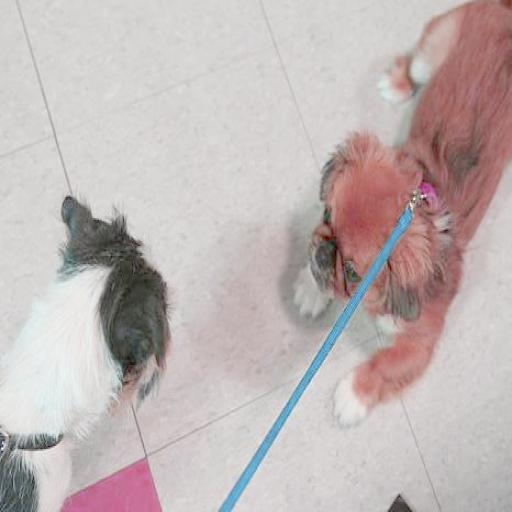dog_face: (293, 153, 448, 318)
